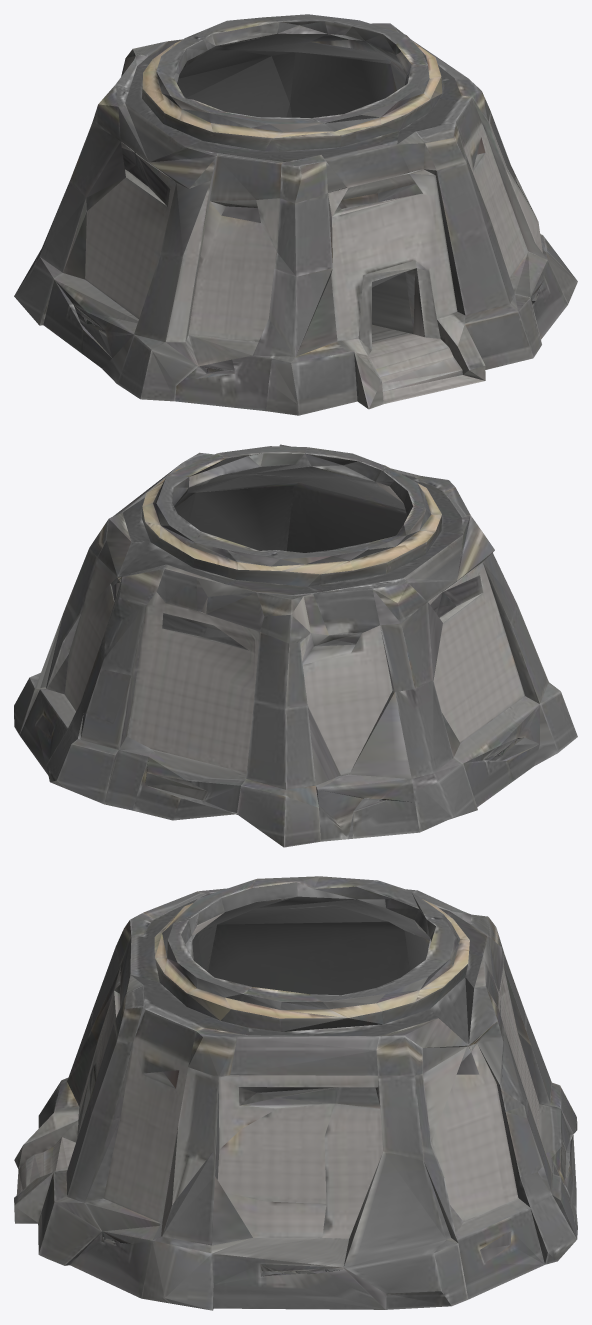
Rendered from imperial_defence_battery_lod2.glb.
The picture shows the model from 3 angles, top to bottom: view 1: azimuth 30°, elevation 25°; view 2: azimuth 150°, elevation 25°; view 3: azimuth 270°, elevation 25°; orthographic projection. The views are drawn at different scales.
Visible parts, largest first — view 1: mesh_node; view 2: mesh_node; view 3: mesh_node.
Part boxes in pixels (x1,y1,x2,y2): mesh_node: (14,14,577,415); mesh_node: (14,444,577,847); mesh_node: (14,876,577,1310).
Bounding box in the file's own units: 21.92 × 10.93 × 21.92.
Materials: 1 (1 with a texture image).
